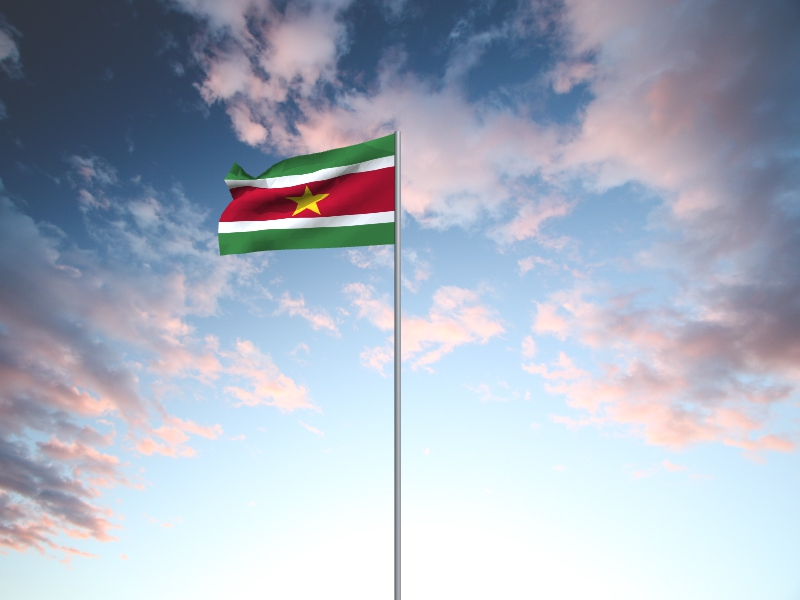sr: (218, 135, 395, 257)
